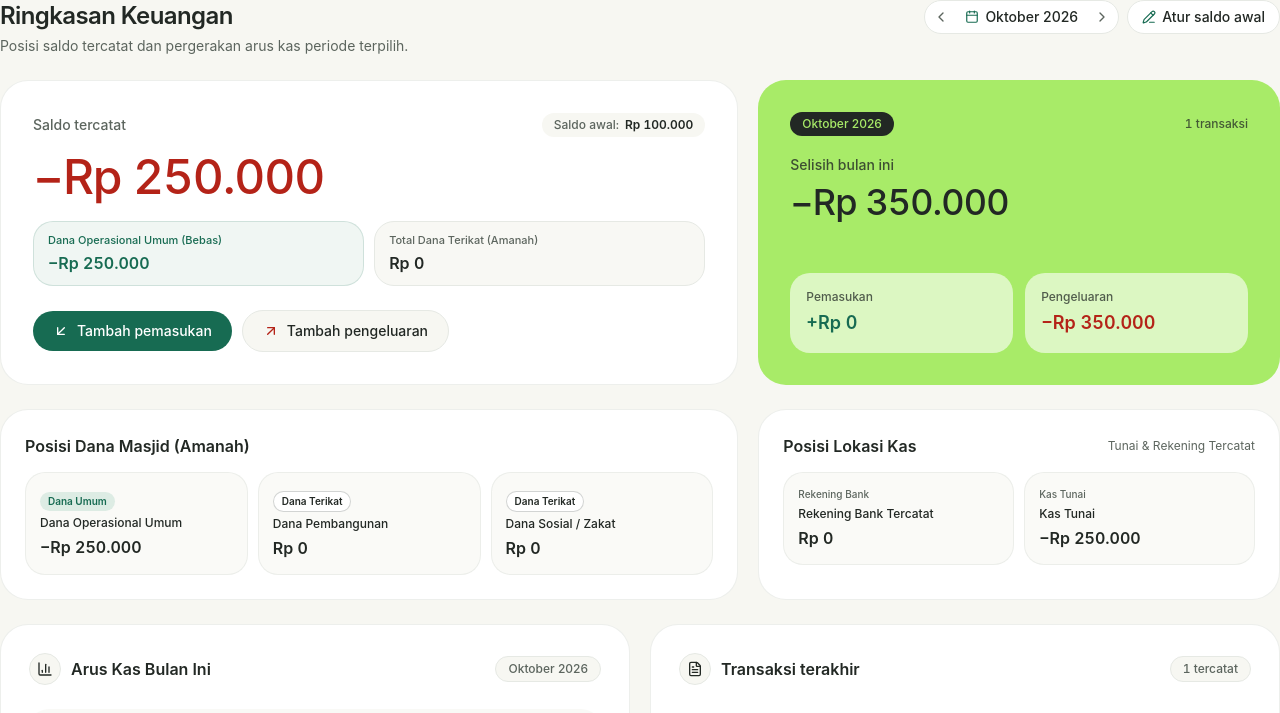
Test: Nota Milestone 3 — Dashboard with Real Data › honestly displays negative recorded balance when expenses exceed opening balance plus income
Expected: the text with test id "current-balance-value" reads "−Rp 250.000", [33, 147, 324, 206]
# Updating opening balance refreshes the recorded balance immediately
Click the button "Atur saldo awal".
click(1204, 17)  # box [1127, 0, 1279, 34]
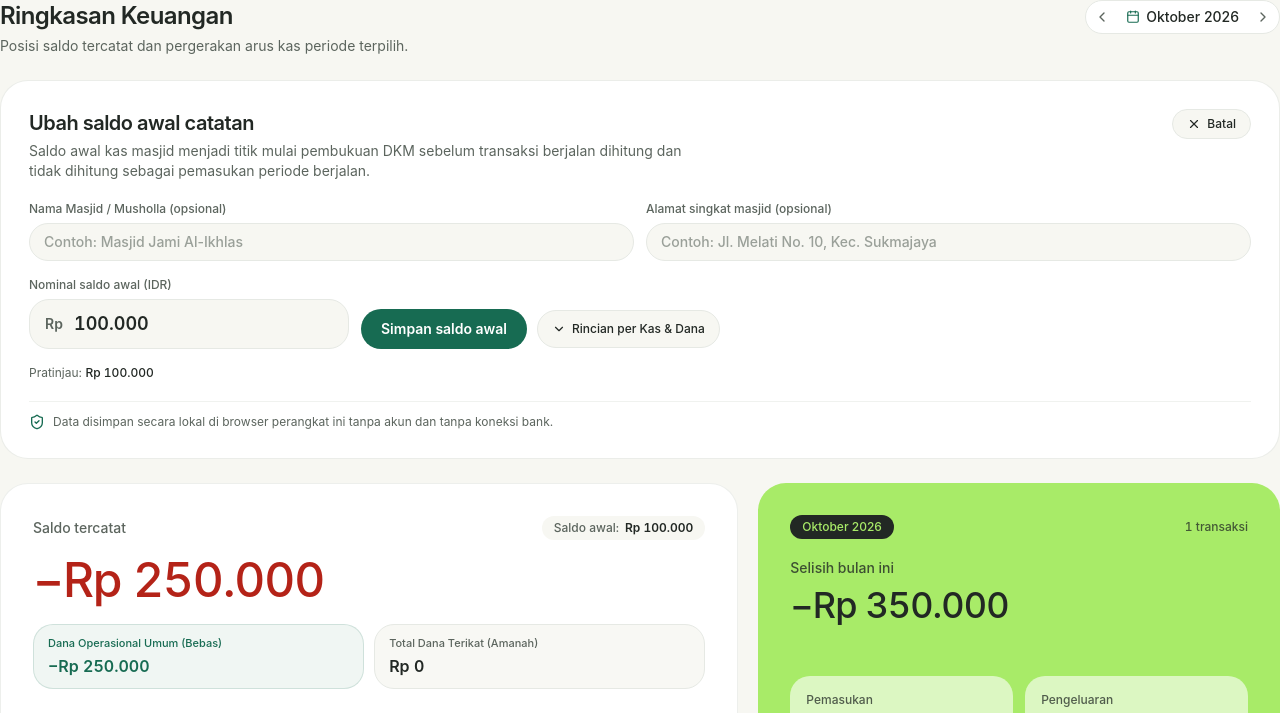
Replace the text in the field labelled "Nominal saldo awal (IDR)" with "500000" at (189, 324), box [29, 299, 349, 349]
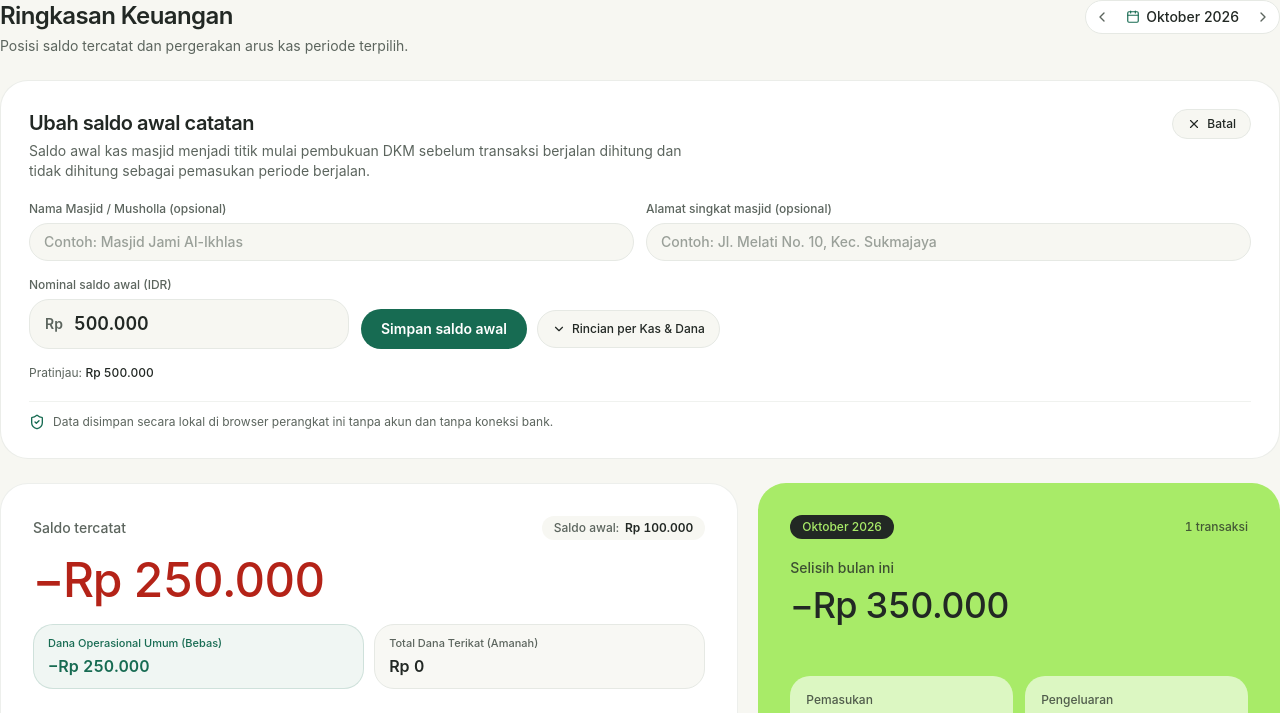
Click the button "Simpan saldo awal".
click(444, 329)  # box [361, 309, 527, 349]
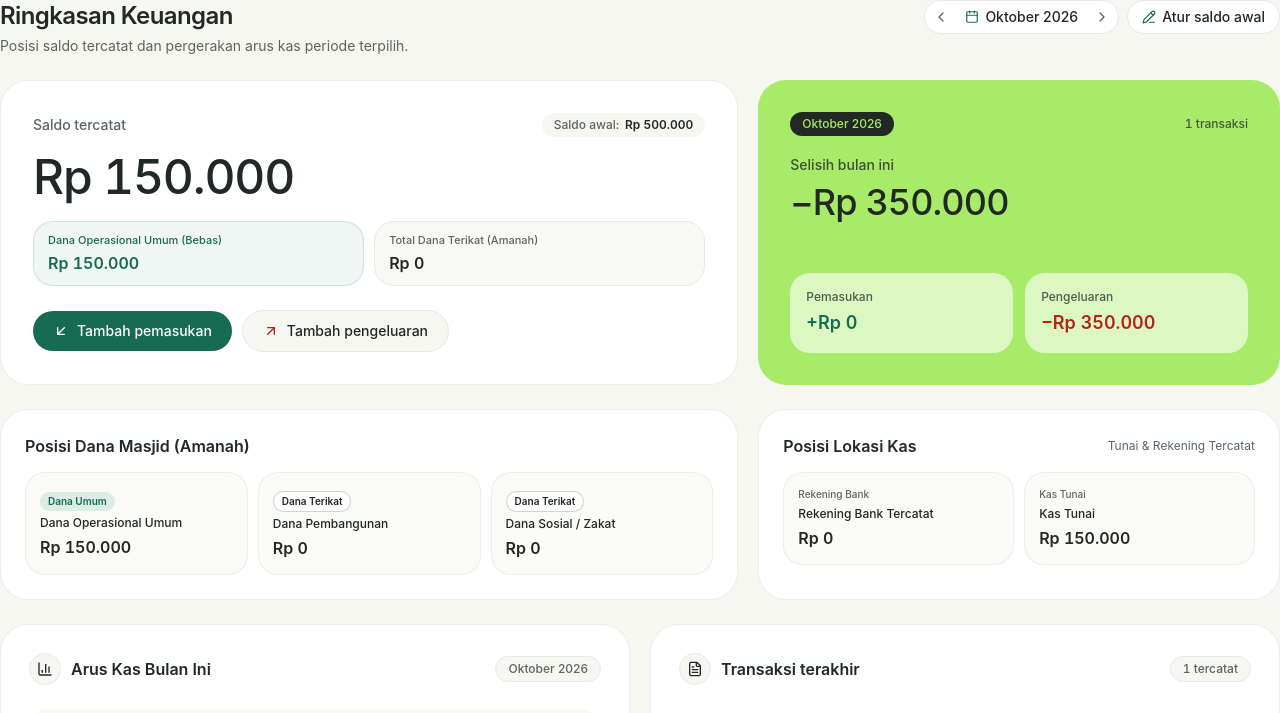
Now the text with test id "current-balance-value" reads "Rp 150.000", box [33, 147, 294, 206]
